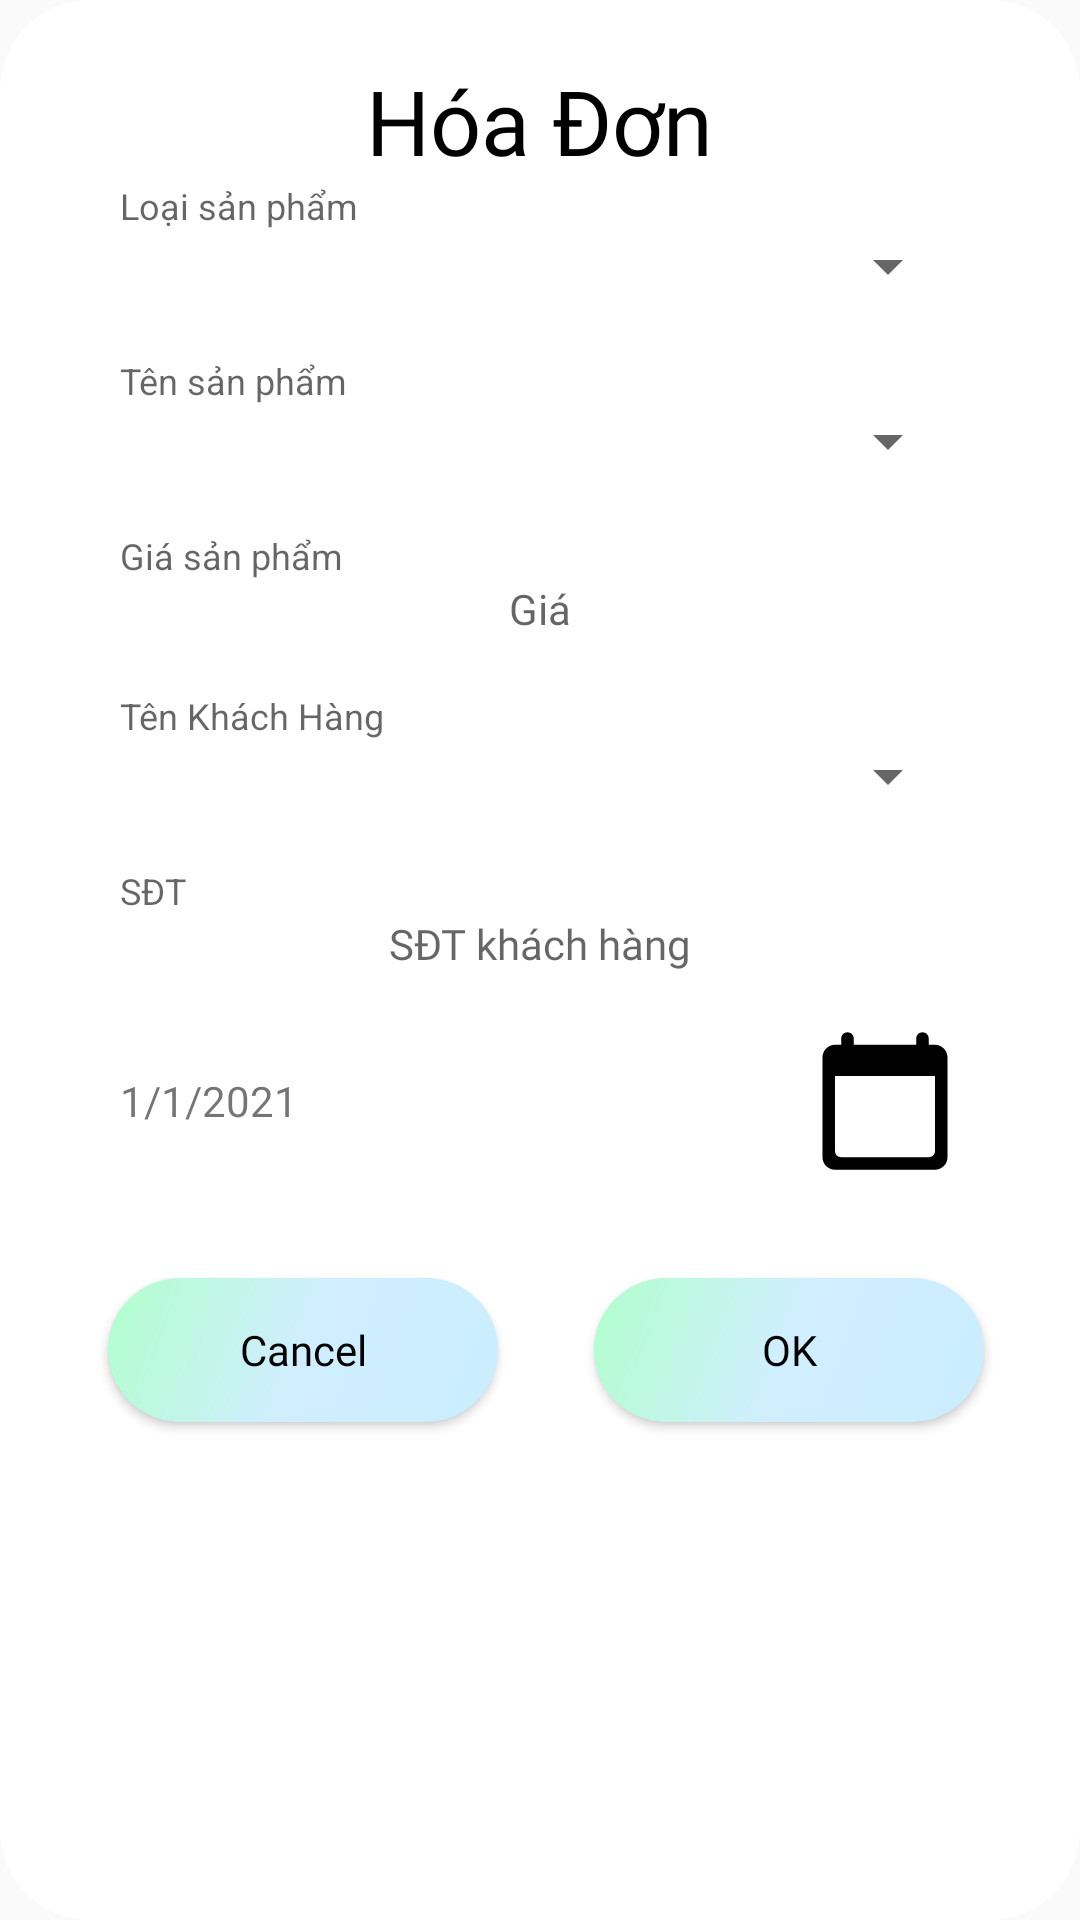

Where icons sit on this 1080*1920 app screen, as (x1, y1, x2, y2):
calendar: (822, 1032, 948, 1170)
